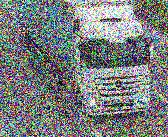truck: (17, 0, 154, 116)
